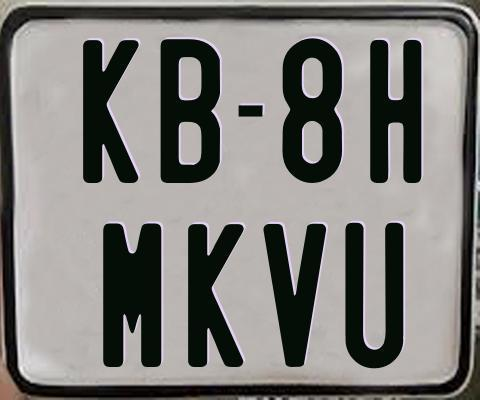8: (279, 38, 341, 188)
B: (159, 37, 219, 186)
H: (368, 37, 423, 180)
K: (187, 224, 246, 372), (83, 38, 140, 187)
M: (103, 222, 167, 372)
U: (342, 223, 400, 370)
V: (263, 223, 328, 368)
